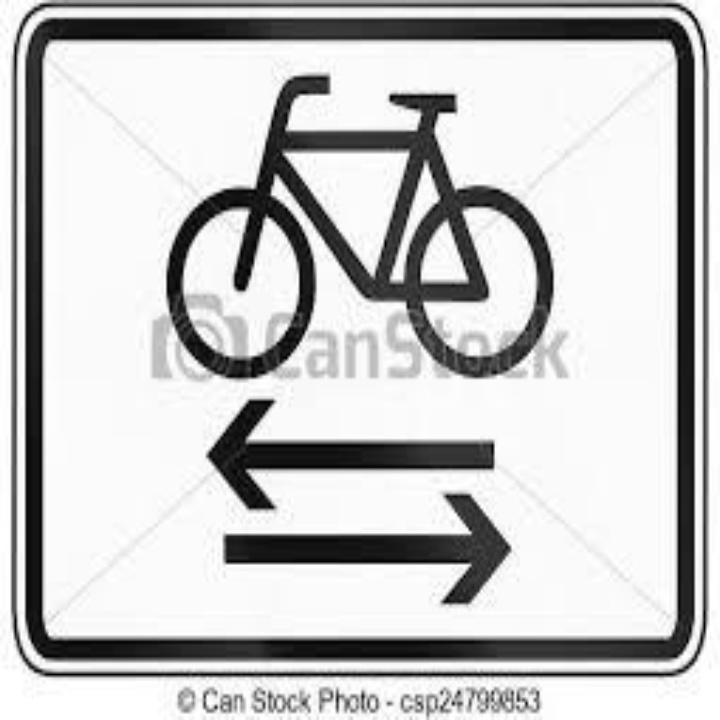bicycle: (118, 29, 592, 388)
